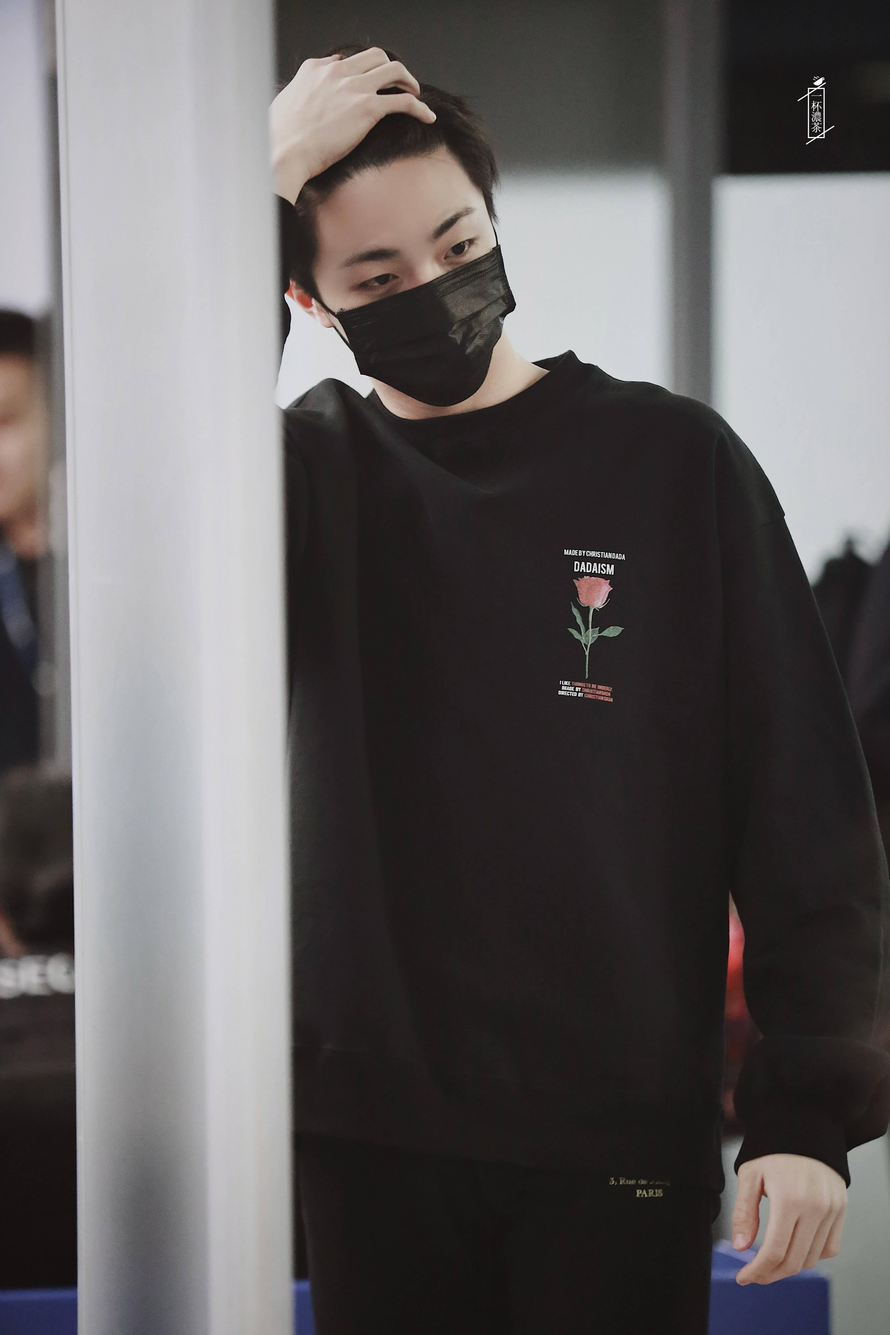OK: (334, 191, 512, 403)
